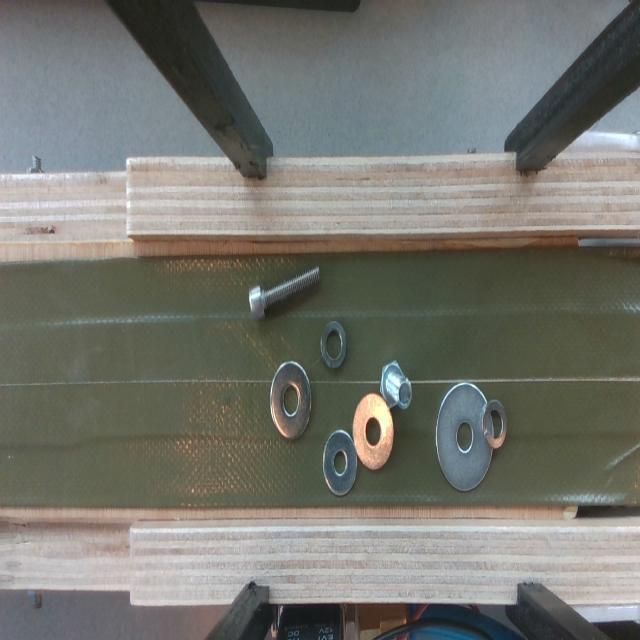Bolt: (246, 265, 321, 324), (379, 357, 412, 412)
Washer: (436, 382, 494, 494), (268, 361, 313, 442), (352, 392, 396, 471), (322, 430, 360, 499), (319, 319, 347, 372), (482, 399, 509, 449)
